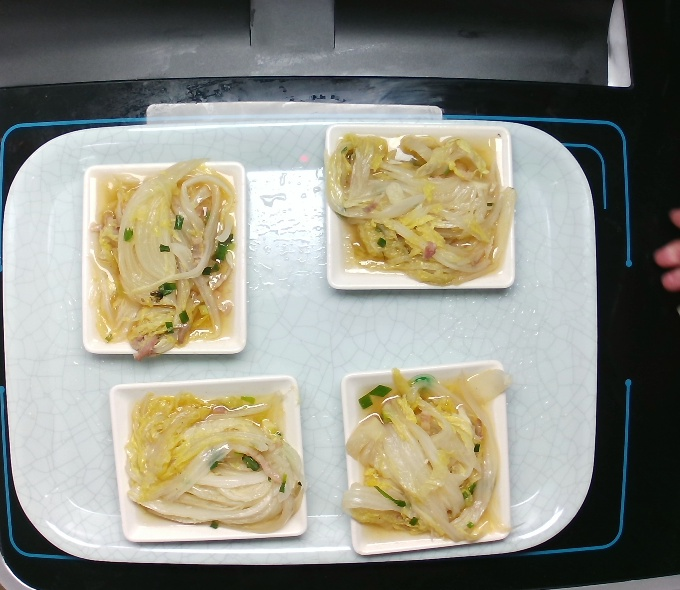wcq-DaBaiCaiRouMou: (87, 158, 247, 364), (320, 129, 522, 290), (342, 364, 520, 546), (123, 386, 309, 537)
